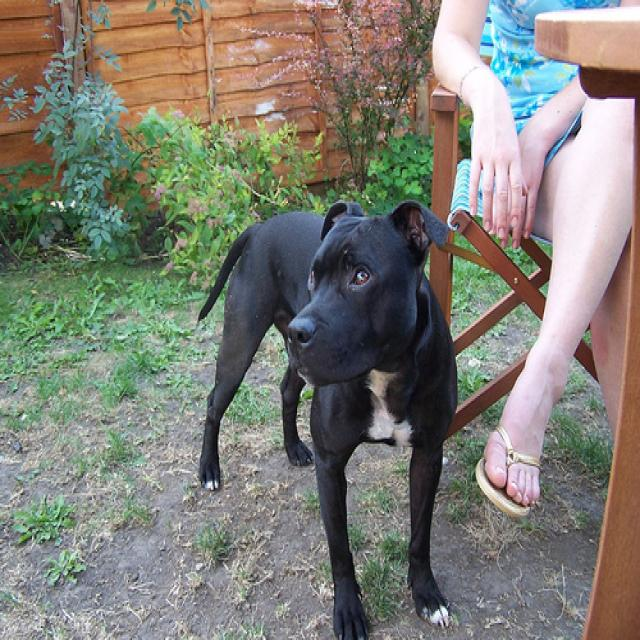dog: (284, 196, 447, 384)
